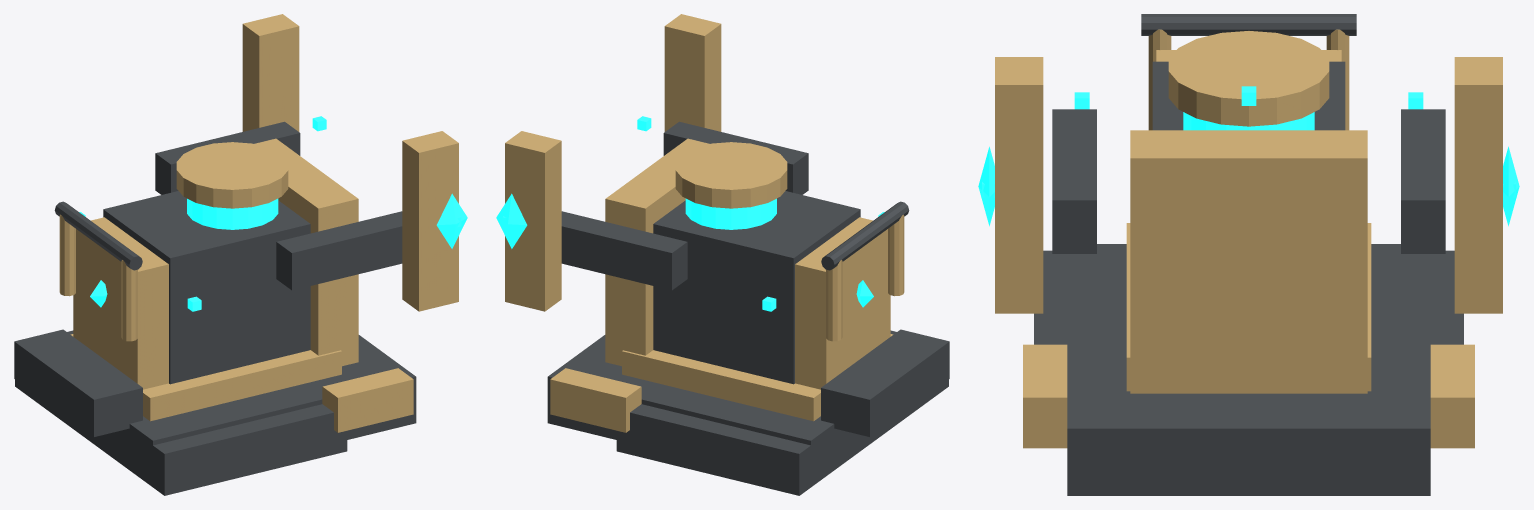
File: SM_GNM_AetherShieldProjector_A01.fbx
3 views of the same model, side by side, from view 1: azimuth 30°, elevation 25°; view 2: azimuth 150°, elevation 25°; view 3: azimuth 270°, elevation 25° (orthographic). The views are drawn at different scales.
Parts seen in each view (by area): view 1: Body_DarkIron_SquatCoreHousing, Foot_DarkIron_RightWideBrace, Body_Brass_RearServiceFrame, Base_DarkIron_LowStabilizer, EmitterVane_Brass_Right, OperatorStep_DarkIron_Rear, Body_Brass_FrontFrame, EmitterArm_DarkIron_Right, Core_Brass_TopCollar, Base_Brass_ServicePlate, EmitterVane_Brass_Left, ToeClamp_Brass_Right (+6 smaller); view 2: Body_DarkIron_SquatCoreHousing, Foot_DarkIron_LeftWideBrace, Body_Brass_RearServiceFrame, EmitterVane_Brass_Left, Base_DarkIron_LowStabilizer, OperatorStep_DarkIron_Rear, Body_Brass_FrontFrame, EmitterArm_DarkIron_Left, Core_Brass_TopCollar, Base_Brass_ServicePlate, EmitterVane_Brass_Right, ToeClamp_Brass_Left (+6 smaller); view 3: Body_Brass_FrontFrame, Base_DarkIron_LowStabilizer, Core_Brass_TopCollar, EmitterVane_Brass_Left, EmitterVane_Brass_Right, EmitterArm_DarkIron_Left, EmitterArm_DarkIron_Right, ToeClamp_Brass_Left, ToeClamp_Brass_Right, ControlCrossbar_DarkIron, Body_DarkIron_SquatCoreHousing, Foot_DarkIron_LeftWideBrace (+7 smaller).
Part boxes in pixels (box(x1,y1,x2,y2)): Body_DarkIron_SquatCoreHousing: box(103, 191, 310, 384); Foot_DarkIron_RightWideBrace: box(138, 404, 347, 495); Body_Brass_RearServiceFrame: box(73, 217, 168, 389); Base_DarkIron_LowStabilizer: box(26, 335, 416, 487); EmitterVane_Brass_Right: box(402, 131, 458, 311); OperatorStep_DarkIron_Rear: box(14, 329, 142, 436); Body_Brass_FrontFrame: box(254, 138, 358, 366); EmitterArm_DarkIron_Right: box(276, 211, 402, 290); Core_Brass_TopCollar: box(176, 142, 288, 208); Base_Brass_ServicePlate: box(70, 334, 341, 421); EmitterVane_Brass_Left: box(242, 14, 299, 131); ToeClamp_Brass_Right: box(322, 368, 413, 432); Body_DarkIron_SquatCoreHousing: box(653, 191, 860, 384); Foot_DarkIron_LeftWideBrace: box(616, 404, 825, 495); Body_Brass_RearServiceFrame: box(795, 217, 890, 389); EmitterVane_Brass_Left: box(505, 131, 561, 311); Base_DarkIron_LowStabilizer: box(547, 335, 935, 484); OperatorStep_DarkIron_Rear: box(821, 329, 949, 436); Body_Brass_FrontFrame: box(605, 138, 709, 366); EmitterArm_DarkIron_Left: box(561, 211, 687, 290); Core_Brass_TopCollar: box(675, 142, 787, 208); Base_Brass_ServicePlate: box(622, 334, 893, 421); EmitterVane_Brass_Right: box(664, 14, 721, 131); ToeClamp_Brass_Left: box(550, 368, 641, 432); Body_Brass_FrontFrame: box(1130, 130, 1367, 393); Base_DarkIron_LowStabilizer: box(1067, 244, 1430, 495); Core_Brass_TopCollar: box(1168, 31, 1329, 126); EmitterVane_Brass_Left: box(1454, 57, 1502, 313); EmitterVane_Brass_Right: box(995, 57, 1043, 313); EmitterArm_DarkIron_Left: box(1401, 109, 1445, 253); EmitterArm_DarkIron_Right: box(1052, 109, 1096, 253); ToeClamp_Brass_Left: box(1430, 344, 1474, 448); ToeClamp_Brass_Right: box(1023, 344, 1067, 448); ControlCrossbar_DarkIron: box(1141, 14, 1356, 35); Body_DarkIron_SquatCoreHousing: box(1152, 61, 1345, 130); Foot_DarkIron_LeftWideBrace: box(1430, 250, 1463, 344).
Size of what is drawn, in the model's own units: 14600 by 14500 by 12600.
